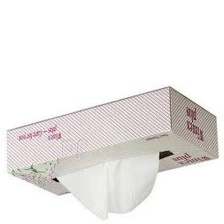book: (0, 82, 224, 200)
tissue: (51, 146, 171, 224)
